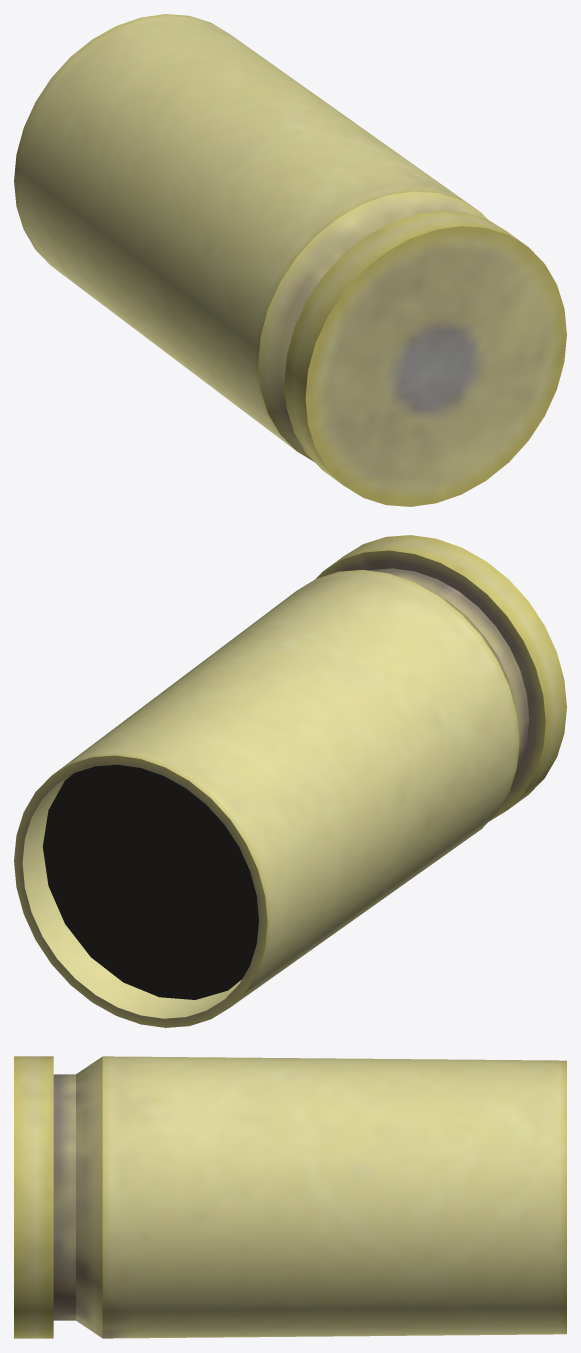
The model's file is casing.gltf.
The picture shows the model from 3 angles, top to bottom: view 1: azimuth 30°, elevation 25°; view 2: azimuth 150°, elevation 25°; view 3: azimuth 270°, elevation 25°; orthographic projection. The views are drawn at different scales.
Visible parts, largest first — view 1: Casing; view 2: Casing; view 3: Casing.
Boxes of the visible parts, x1,y1,x2,y2 form: Casing: (14,14,566,506); Casing: (14,535,566,1027); Casing: (14,1056,566,1338).
Size of the model in its own units: 0.00973 by 0.00973 by 0.019.
2 materials, 1 textured.
